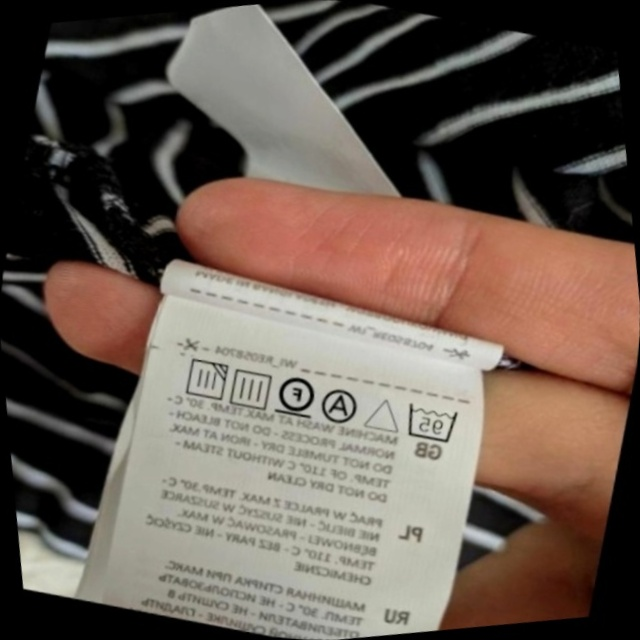95C: (392, 389, 469, 456)
bleach: (356, 384, 412, 443)
drip_dry: (218, 356, 283, 420)
drip_dry_in_shade: (171, 346, 238, 413)
dry_clean: (312, 378, 369, 434)
dry_clean_petrol_only: (265, 362, 327, 428)
